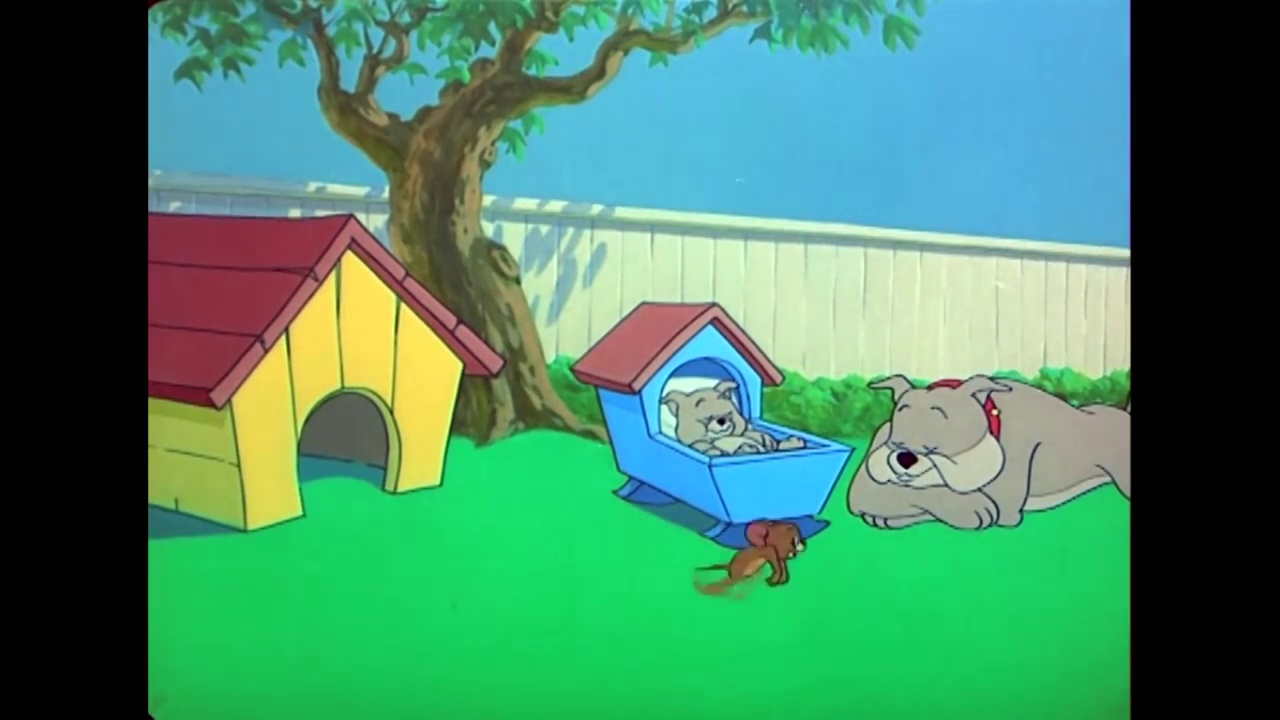spike: (862, 372, 1015, 498)
